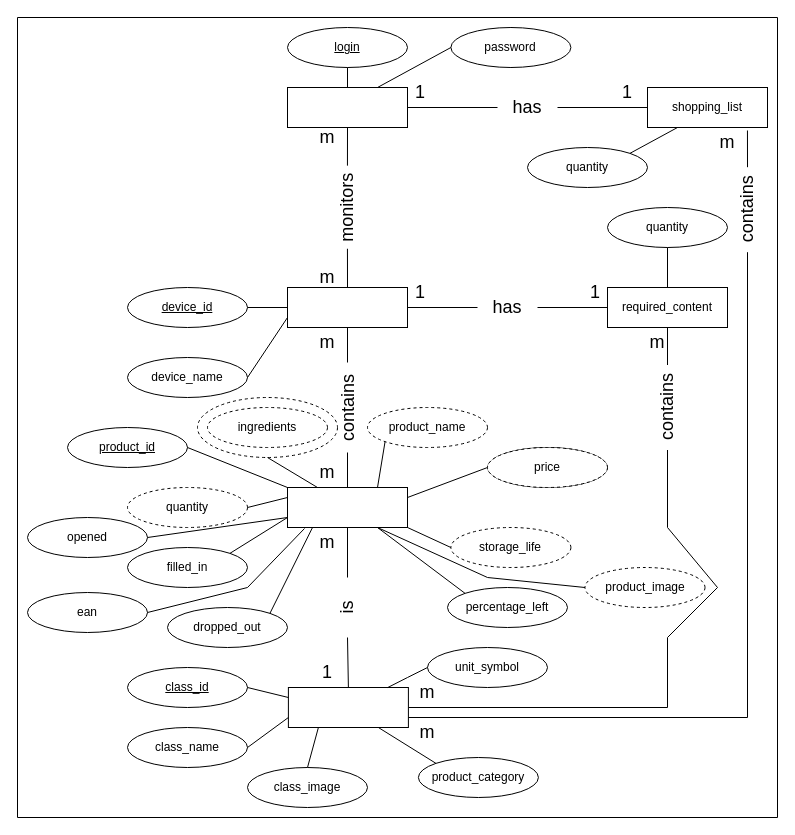
The diagram is 795 pixels wide and 835 high, and some of its shapes have lost their labels. The centre of each missing label's shape, as x and y in pixels:
"device" goes at pixel 347 307.
"fridge_user" goes at pixel 347 107.
"product" goes at pixel 347 507.
"product_class" goes at pixel 347 707.
